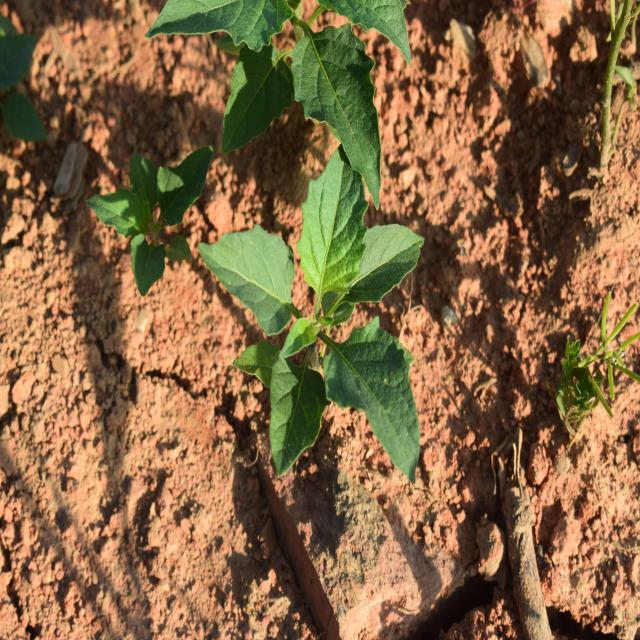Black_nightshade: (213, 156, 434, 480), (189, 0, 429, 205)
